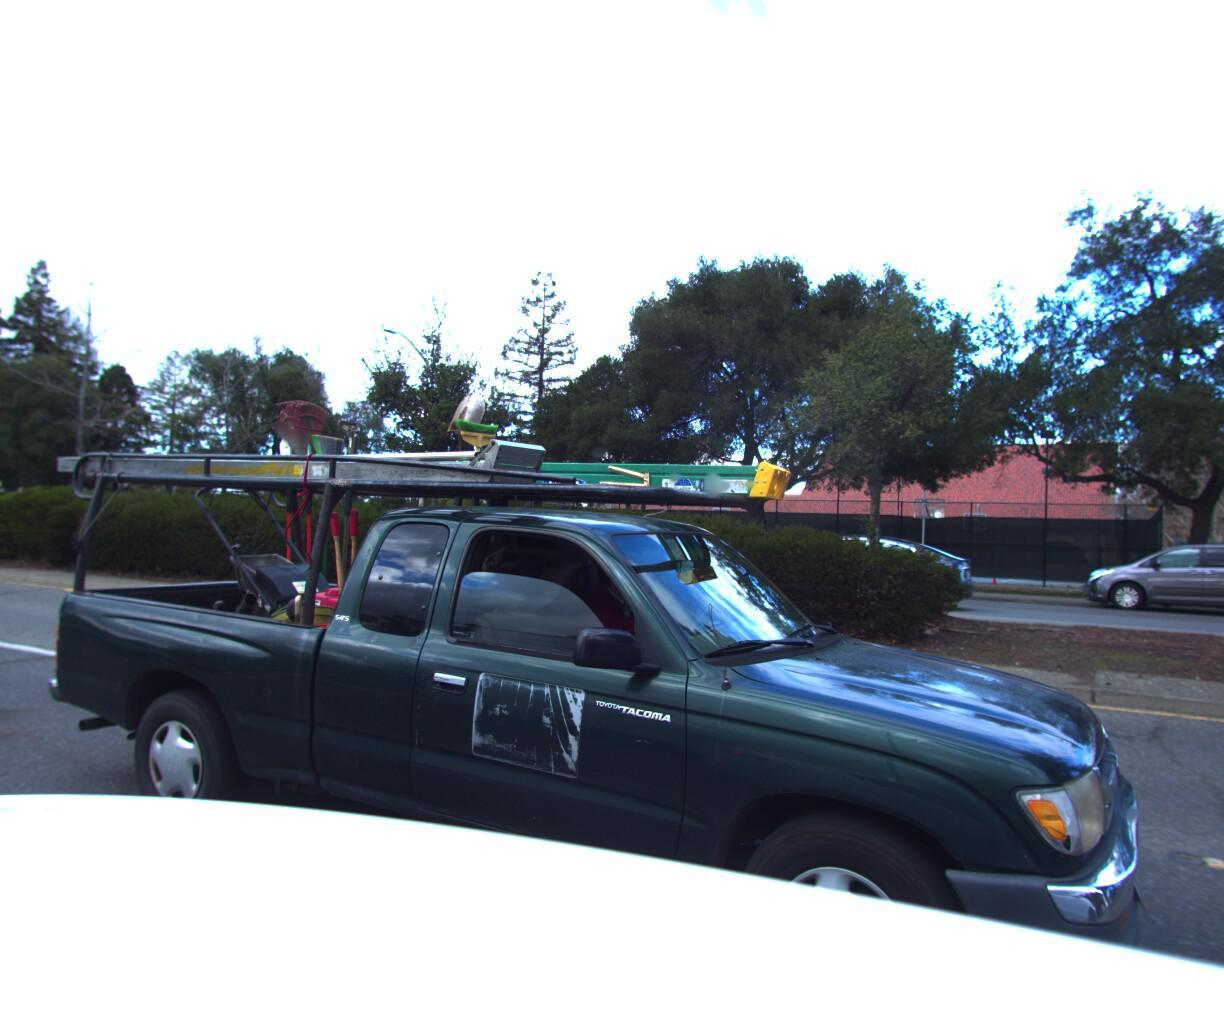car: (0, 232, 1093, 1024), (739, 514, 991, 616), (1072, 532, 1224, 624)
